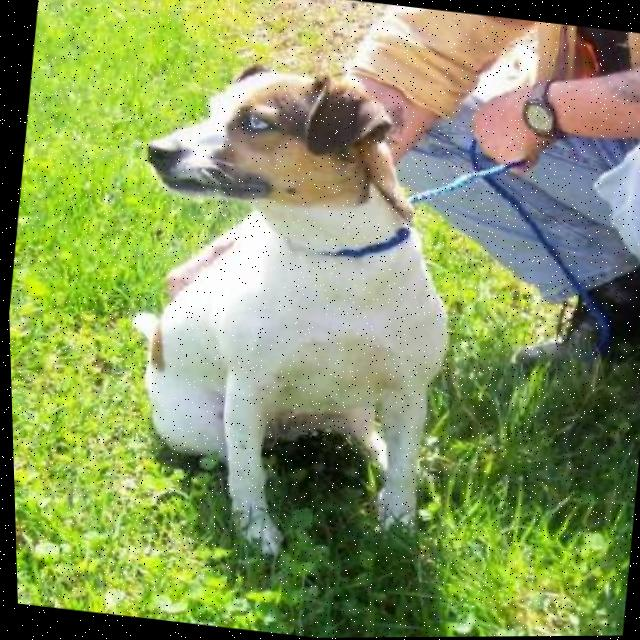dogs: (88, 39, 494, 566)
